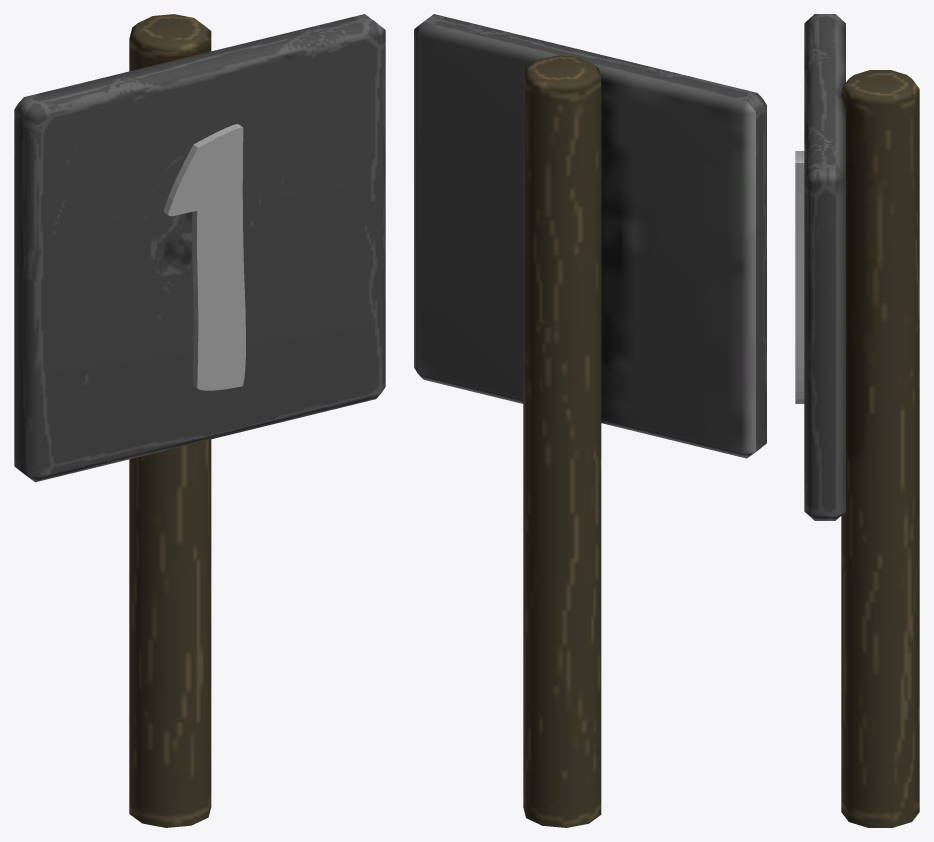
File: sign1.fbx
3 views of the same model, side by side, from view 1: azimuth 30°, elevation 25°; view 2: azimuth 150°, elevation 25°; view 3: azimuth 270°, elevation 25° (orthographic). The views are drawn at different scales.
Visible parts, largest first — view 1: sign1; view 2: sign1; view 3: sign1.
Boxes of the visible parts, x1=… form: sign1: x1=14, y1=14, x2=385, y2=827; sign1: x1=414, y1=14, x2=766, y2=827; sign1: x1=795, y1=14, x2=919, y2=827.
Bounding box in the file's own units: 1 × 2.07 × 0.3196.
Materials: 1 (1 with a texture image).
